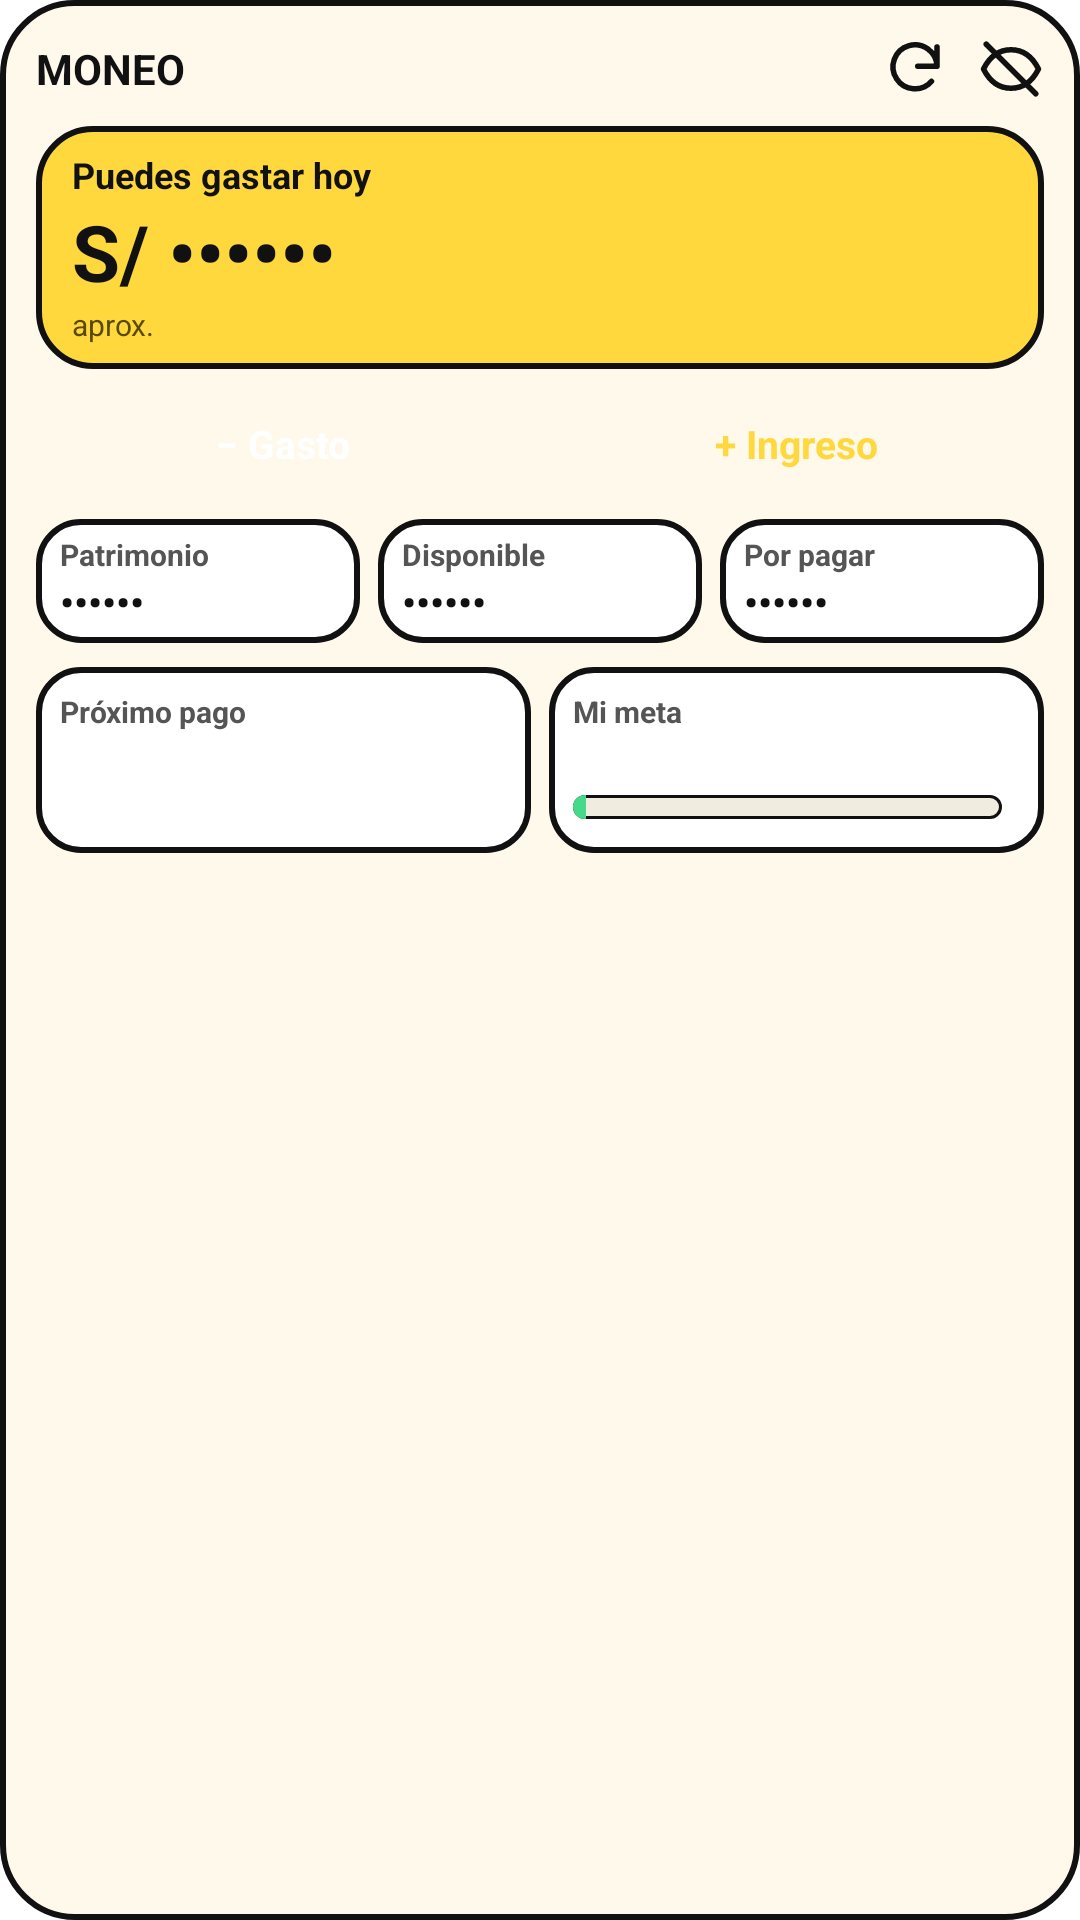

Where to tap for icons on this 1080w x 1920h app screen, as (x=x, y=y):
Actualizar: (x=915, y=67)
Mostrar u ocultar montos: (x=1011, y=69)
